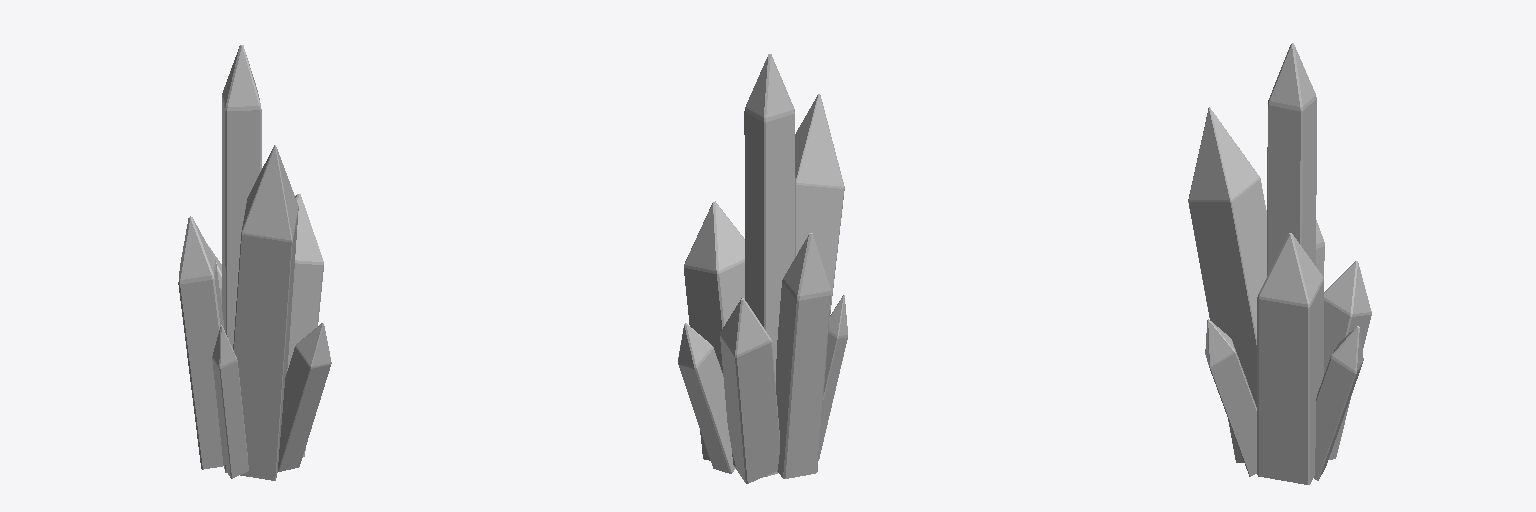
Rendered from celestial_prism_high.obj.
3 renders of one model, left to right at view 1: azimuth 30°, elevation 25°; view 2: azimuth 150°, elevation 25°; view 3: azimuth 270°, elevation 25°, orthographic.
Parts seen in each view (by area): view 1: celestial_prism.002; view 2: celestial_prism.002; view 3: celestial_prism.002.
Boxes of the visible parts, x1,y1,x2,y2 form: celestial_prism.002: [178, 45, 331, 480]; celestial_prism.002: [678, 54, 847, 483]; celestial_prism.002: [1188, 43, 1371, 484].
Size of the model in its own units: 0.6609 by 1.88 by 0.7495.